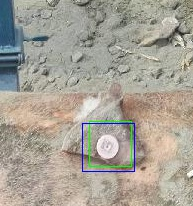text: (89, 121, 131, 166)
